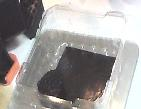berry: (37, 70, 61, 95)
